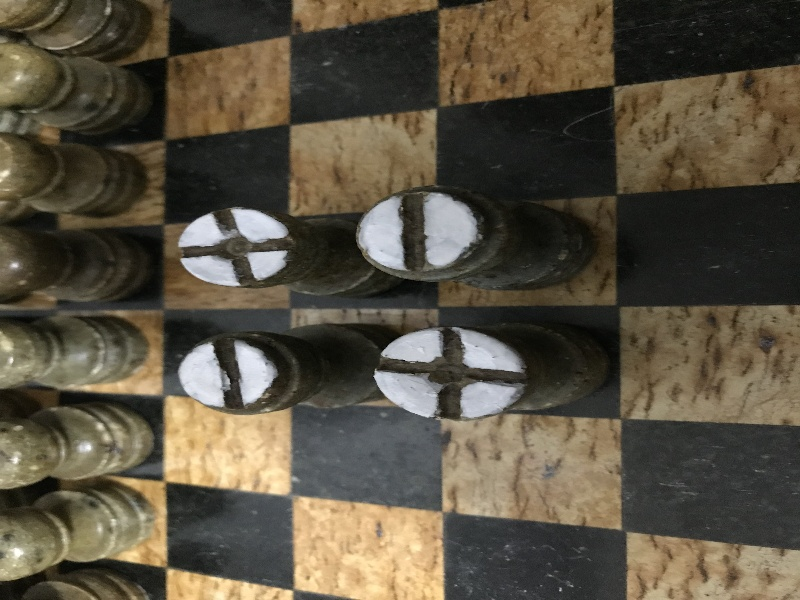WhiteBishop: (374, 323, 608, 421), (178, 206, 383, 296)
WhiteRook: (355, 185, 593, 291), (178, 324, 387, 415)
